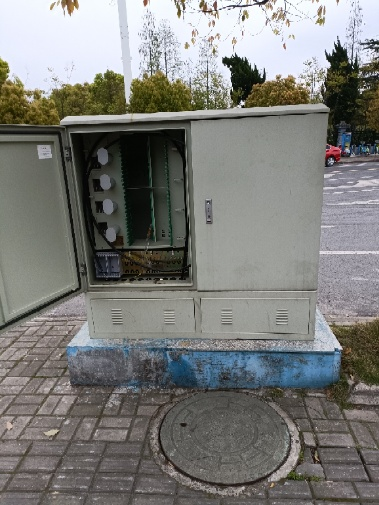good: (149, 387, 300, 497)
